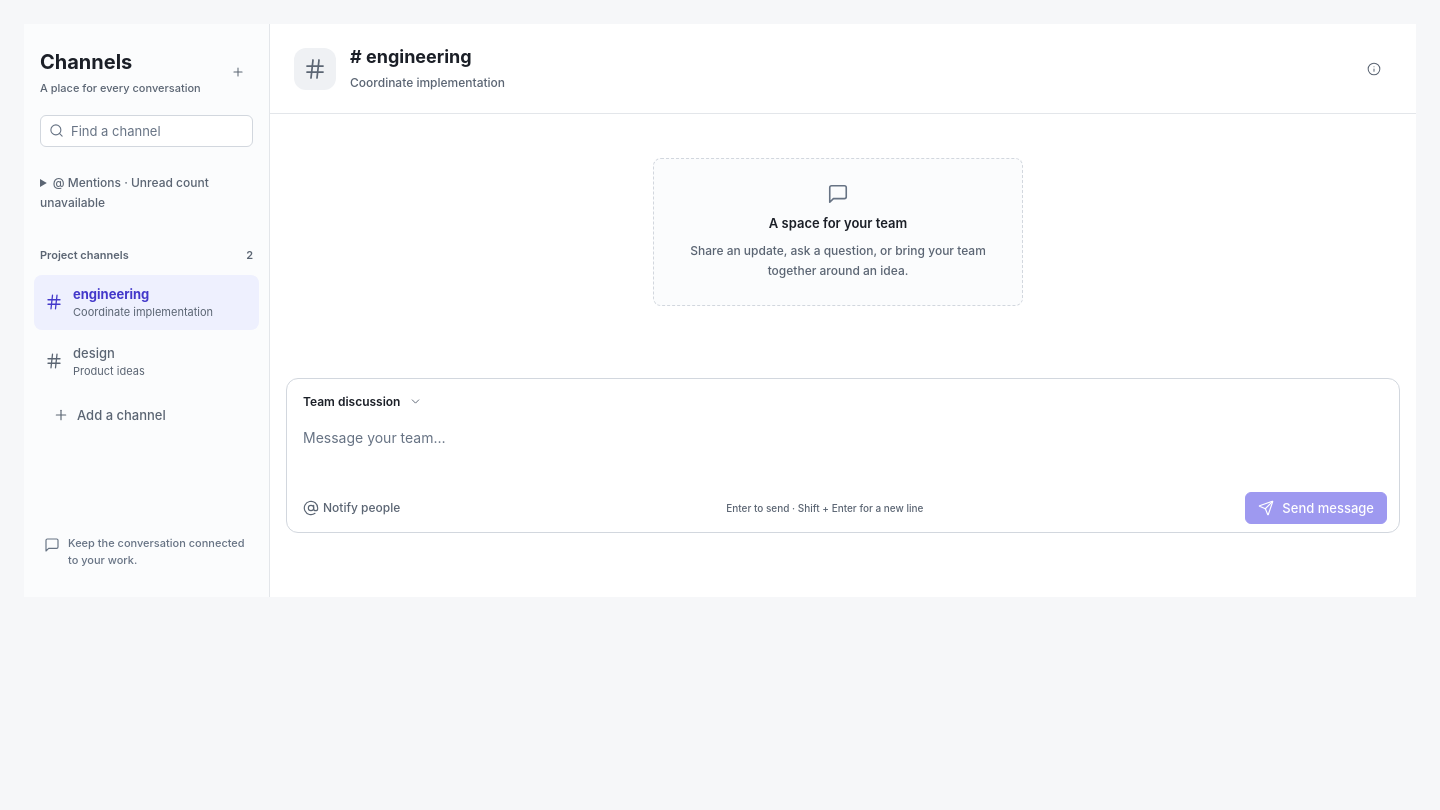
Test case: channel collaboration › filters the directory by topic without replacing the open conversation or its draft
The width and height of the screenshot is (1440, 810).
Type "Keep this draft" into the text box labelled "Message" at (843, 450), box [287,415,1399,484]
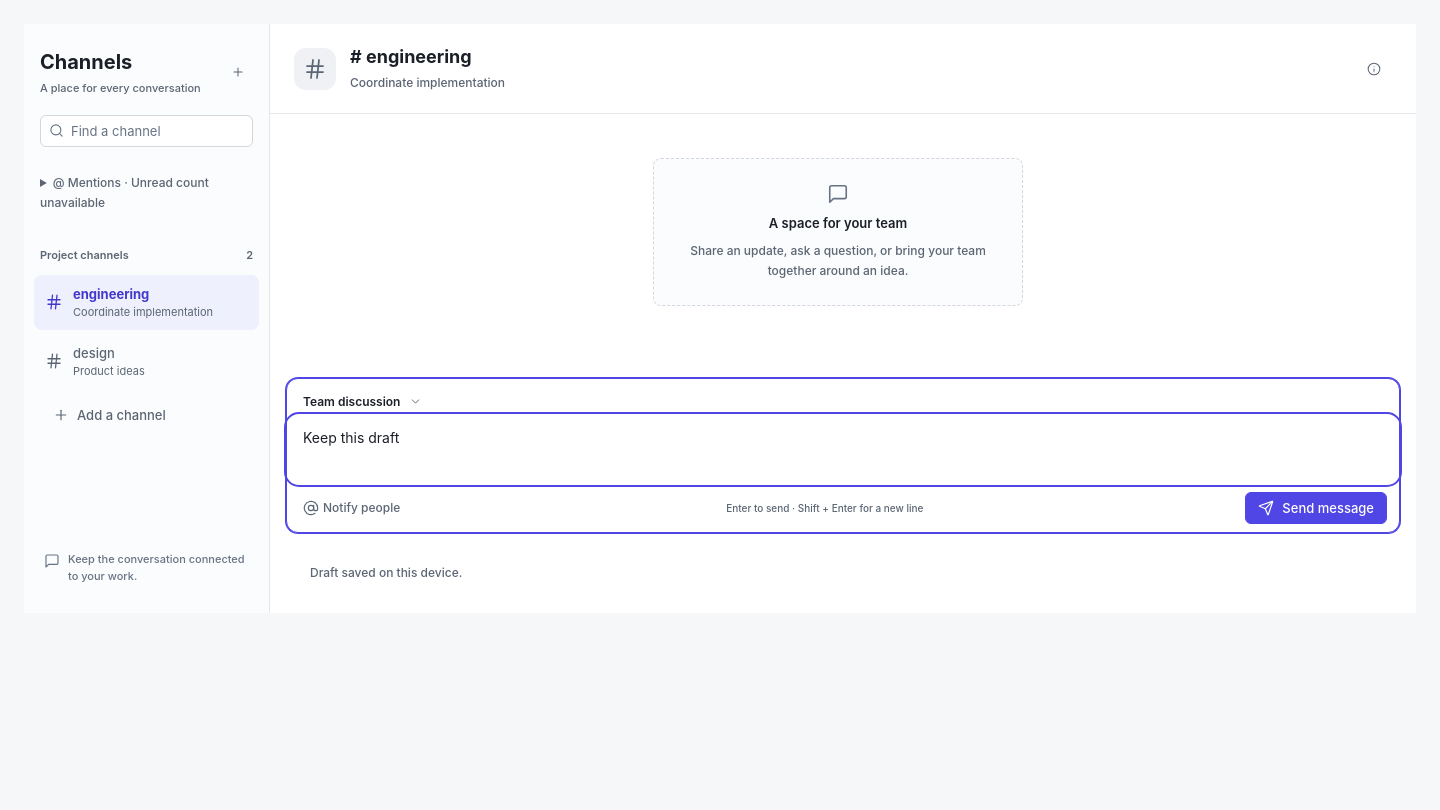
Type "product" into the search field labelled "Find a channel" at (146, 130), box [40,114,253,146]
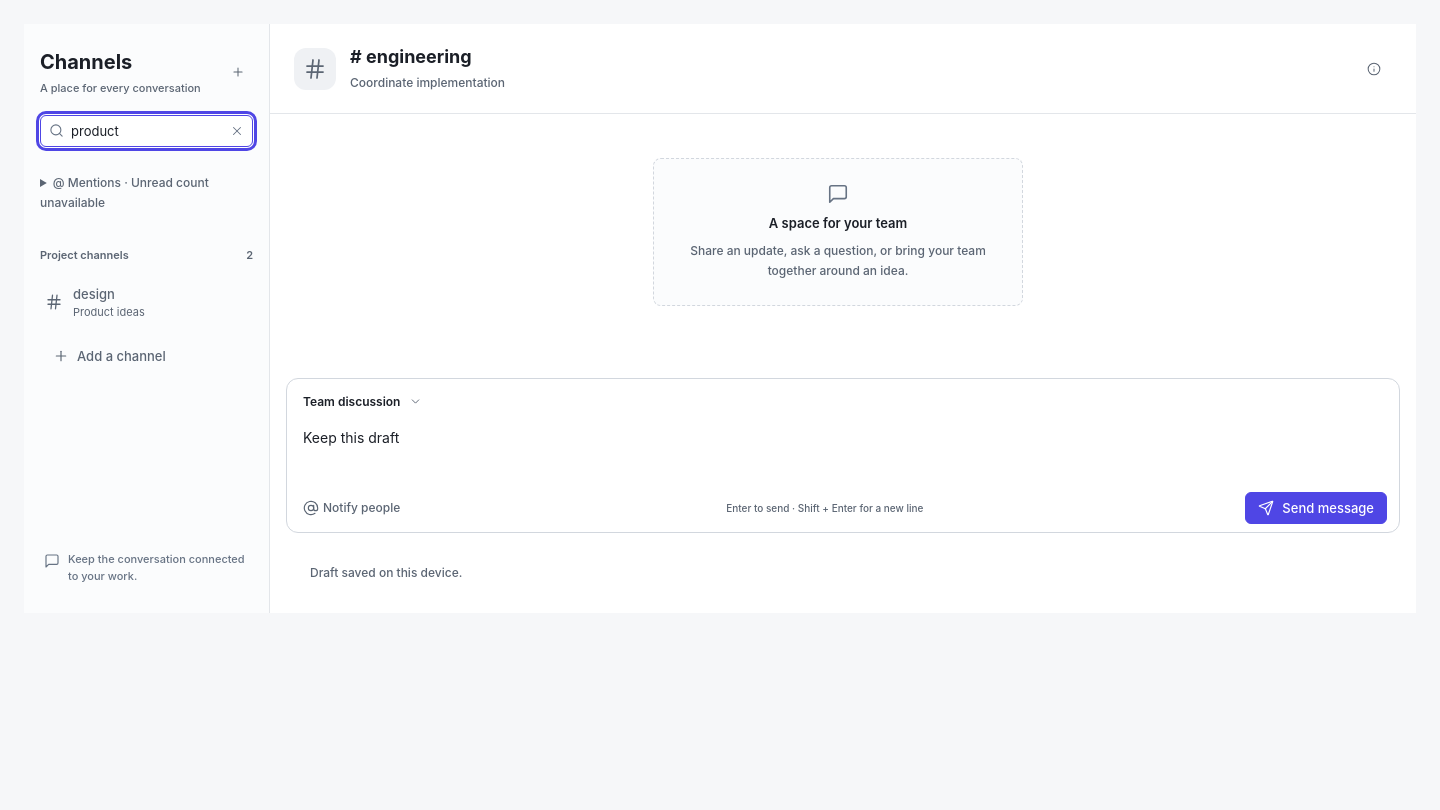
Expected: the button with aria-label "# design" is shown, [34,274,259,330]
Expected: the heading "# engineering" is shown, [350,46,472,67]
Click the button named "Clear search" at (237, 130), box [227,120,247,140]
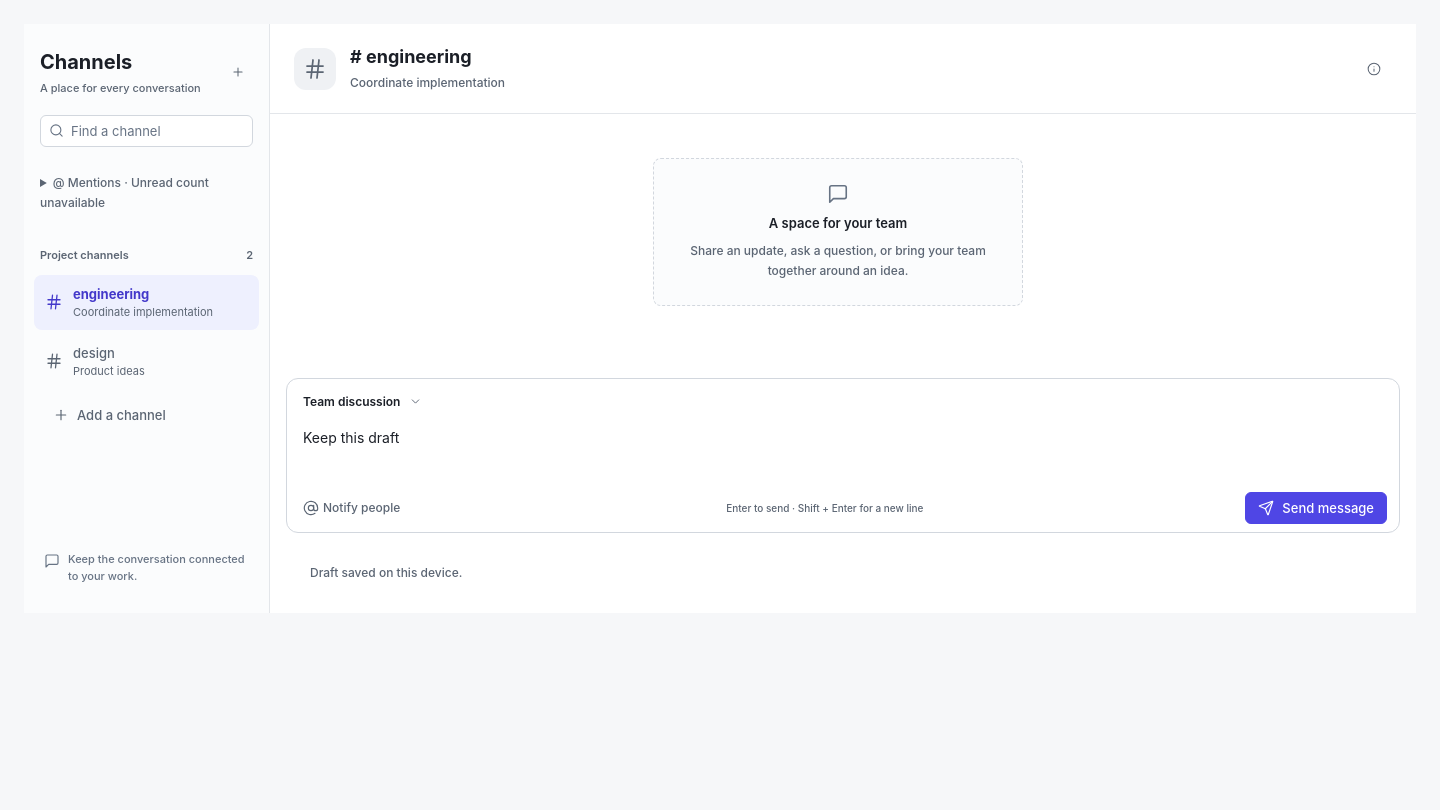
Expected: the button with aria-label "# engineering" is shown, [34,274,259,330]
